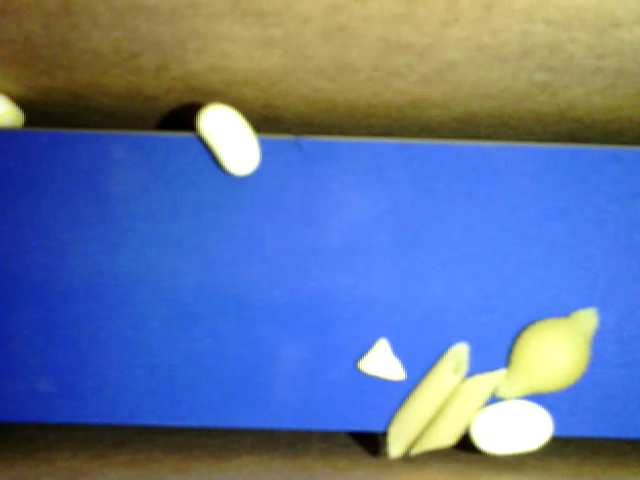penne: (386, 340, 470, 458), (410, 367, 507, 456)
shell: (495, 306, 600, 400)
